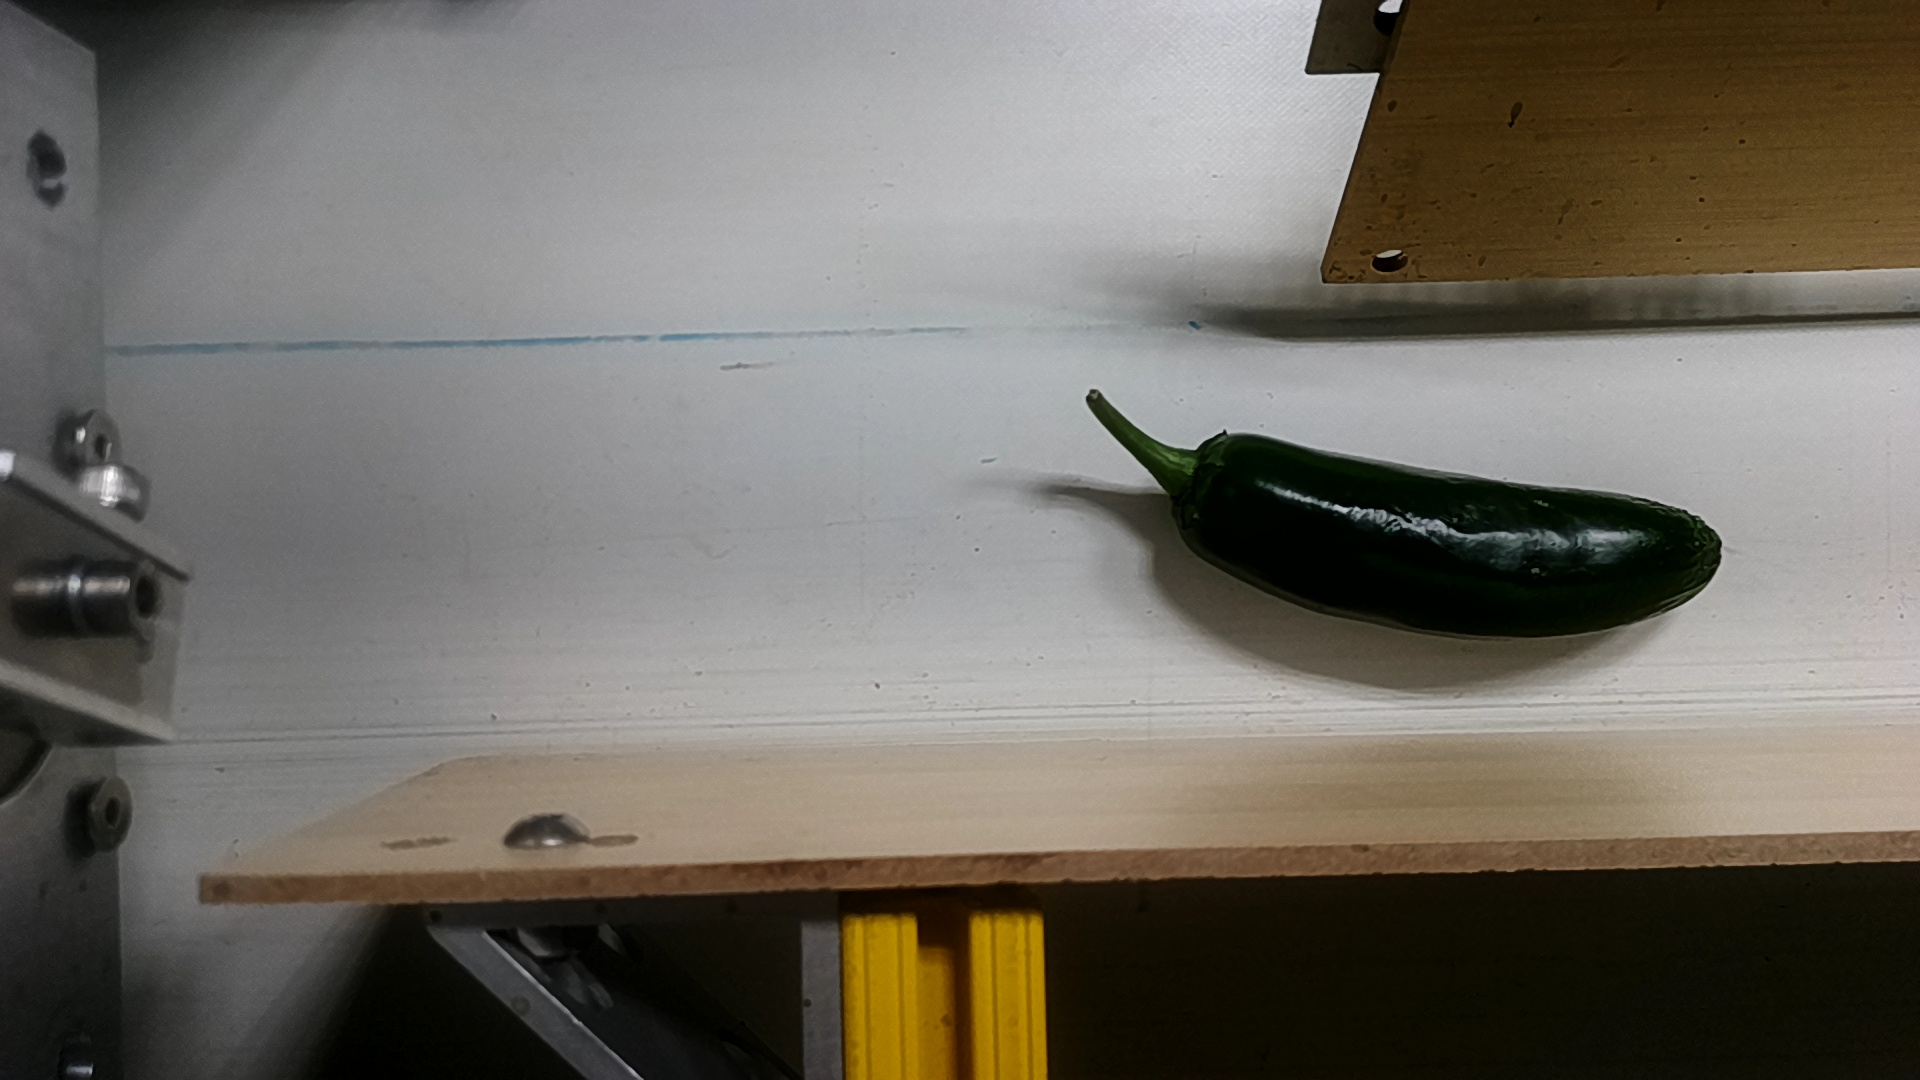Cut Point: (1151, 422, 1269, 564)
